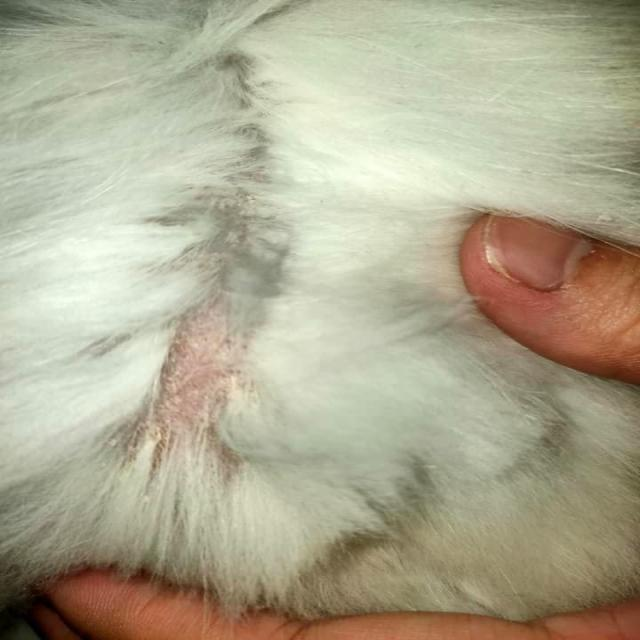Ringworm: (119, 281, 273, 478)
